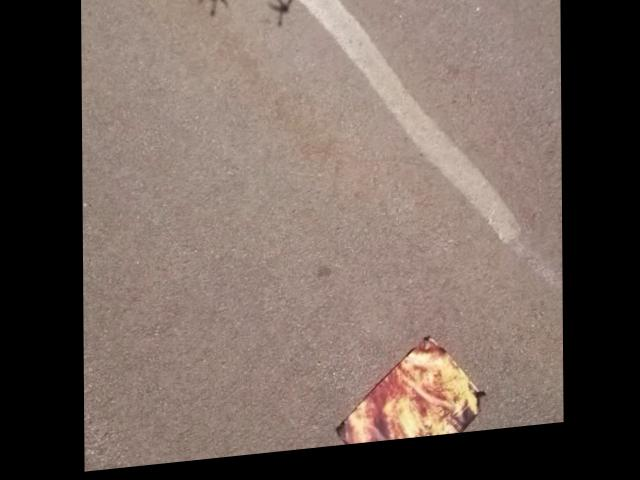fire-poster: (331, 339, 487, 453)
